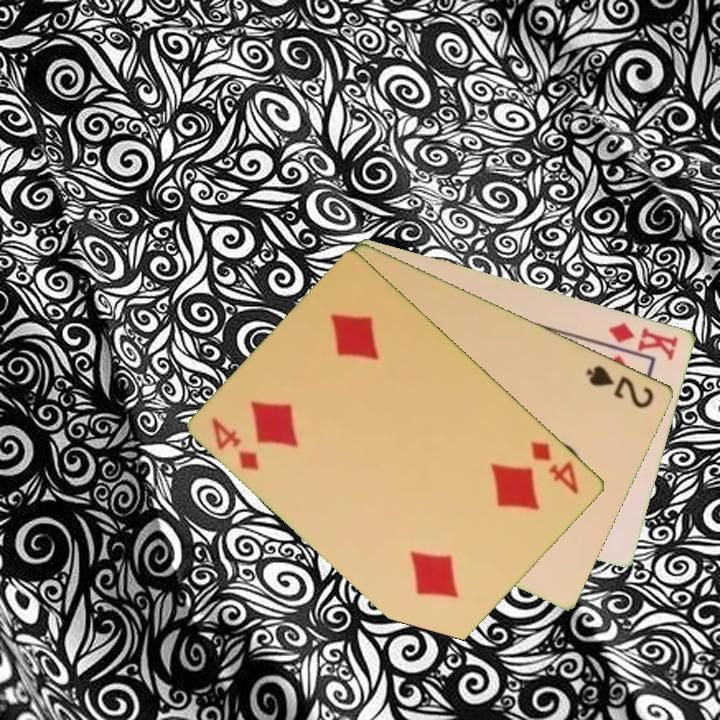2s: (583, 361, 658, 411)
4d: (527, 437, 582, 498), (208, 414, 263, 474)
Kd: (598, 319, 682, 363)
